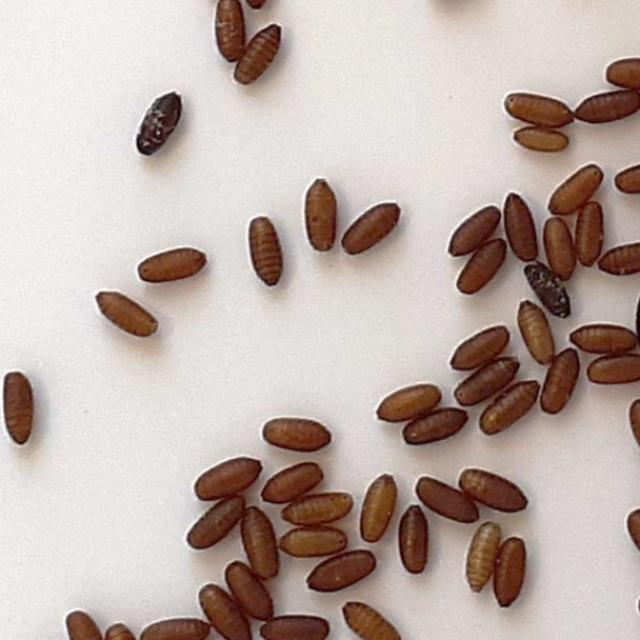flypupae: (123, 68, 202, 170), (90, 284, 173, 350), (337, 190, 407, 262), (442, 233, 518, 296), (180, 491, 260, 550), (409, 467, 482, 530), (433, 196, 499, 263), (212, 561, 280, 626), (254, 414, 347, 461), (366, 372, 444, 428), (474, 379, 549, 437), (450, 354, 524, 410), (484, 86, 574, 132), (240, 210, 293, 288), (183, 454, 265, 503), (255, 453, 328, 508), (495, 184, 543, 267), (440, 320, 511, 376), (231, 20, 286, 92), (488, 530, 534, 614), (459, 467, 537, 515), (544, 154, 602, 218), (280, 484, 355, 533), (302, 549, 380, 596), (573, 76, 640, 130), (511, 302, 563, 371), (1, 367, 46, 446), (462, 513, 502, 601), (540, 339, 584, 419), (523, 260, 575, 326), (135, 243, 213, 286), (239, 500, 279, 583), (300, 175, 340, 256), (571, 191, 615, 263), (393, 504, 434, 581), (272, 524, 353, 560), (357, 464, 392, 547), (402, 406, 471, 446), (508, 122, 570, 166), (214, 0, 246, 68), (570, 319, 632, 354)
